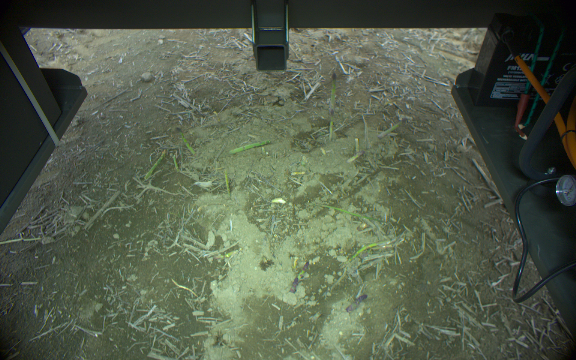aspa: (310, 197, 386, 224), (349, 239, 392, 262), (143, 148, 166, 181), (291, 259, 311, 295), (229, 139, 271, 156), (345, 292, 370, 315), (377, 121, 403, 141), (328, 70, 337, 116), (220, 168, 232, 201), (179, 132, 192, 154), (348, 150, 367, 162), (327, 118, 335, 140), (171, 153, 178, 170)
